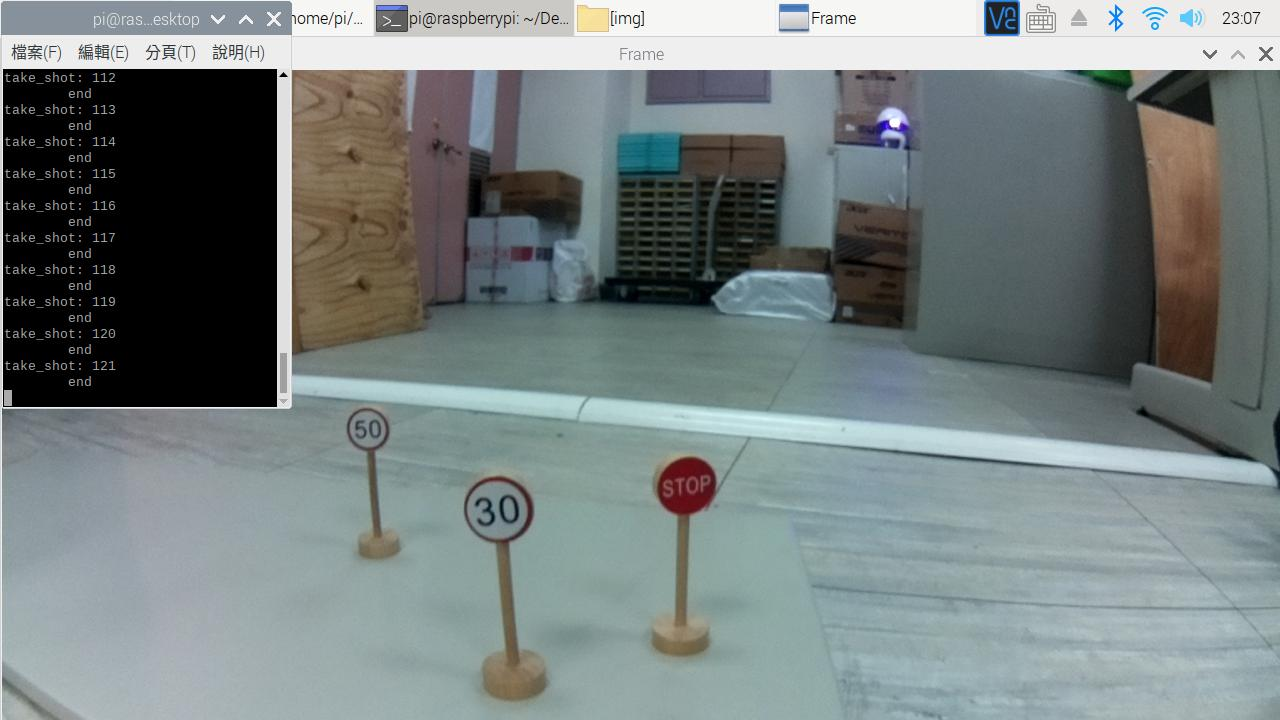Speed30: (457, 468, 542, 561)
Speed50: (338, 400, 401, 460)
Stop: (646, 448, 725, 529)
